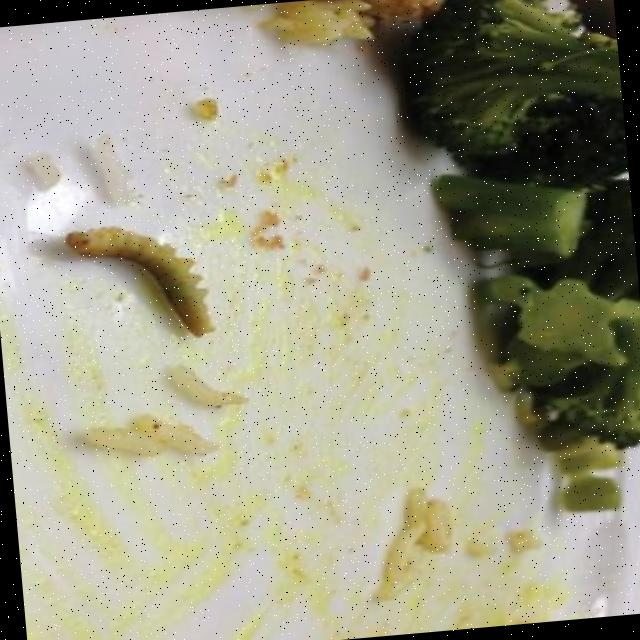worm: (58, 201, 238, 363)
